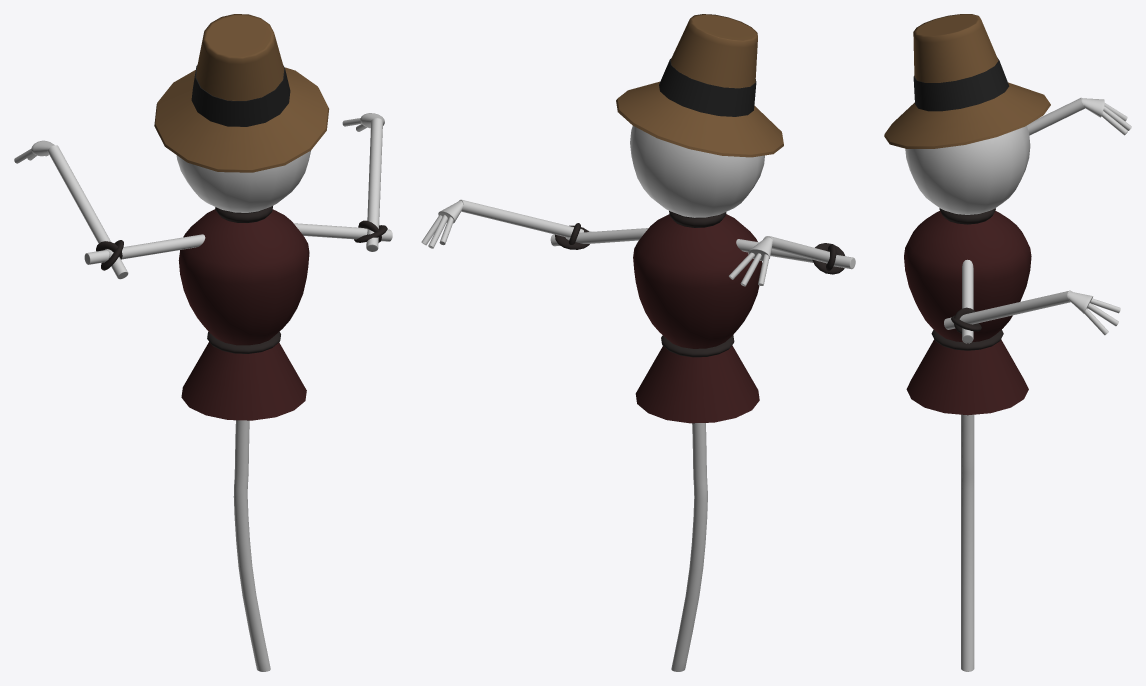
The model's file is Scarecrow model.fbx.
3 views of the same model, side by side, from view 1: azimuth 30°, elevation 25°; view 2: azimuth 150°, elevation 25°; view 3: azimuth 270°, elevation 25° (orthographic). The views are drawn at different scales.
Parts seen in each view (by area): view 1: polySurface63; view 2: polySurface63; view 3: polySurface63.
Part boxes in pixels (<box>): polySurface63: <box>14,14,392,671</box>; polySurface63: <box>421,14,855,671</box>; polySurface63: <box>884,14,1131,671</box>.
Size of the model in its own units: 11.24 by 19.38 by 6.85.
